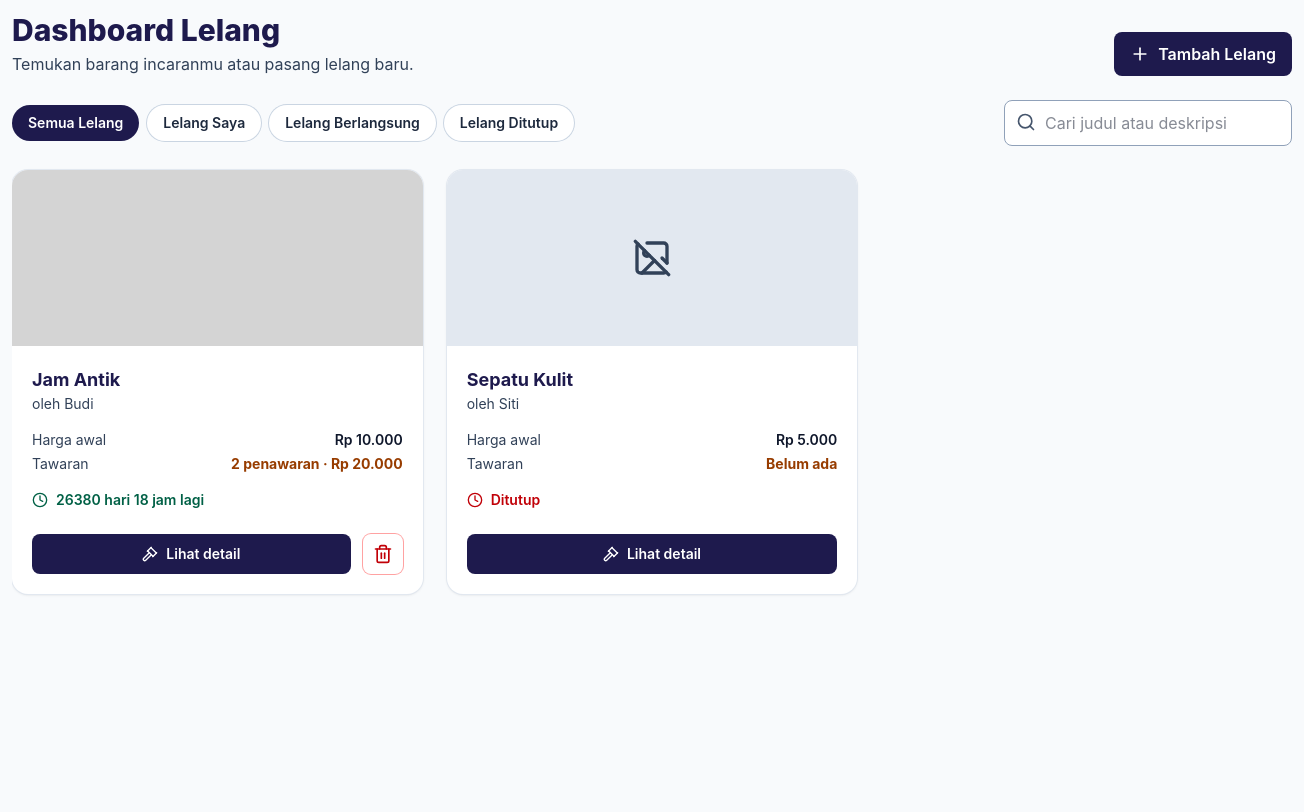
Test: HomePage › tab filter: berlangsung, ditutup, semua, dan lelang saya
This screenshot has width=1304, height=812.
Click the button "Lelang Berlangsung".
click(352, 123)  # box [269, 105, 436, 141]
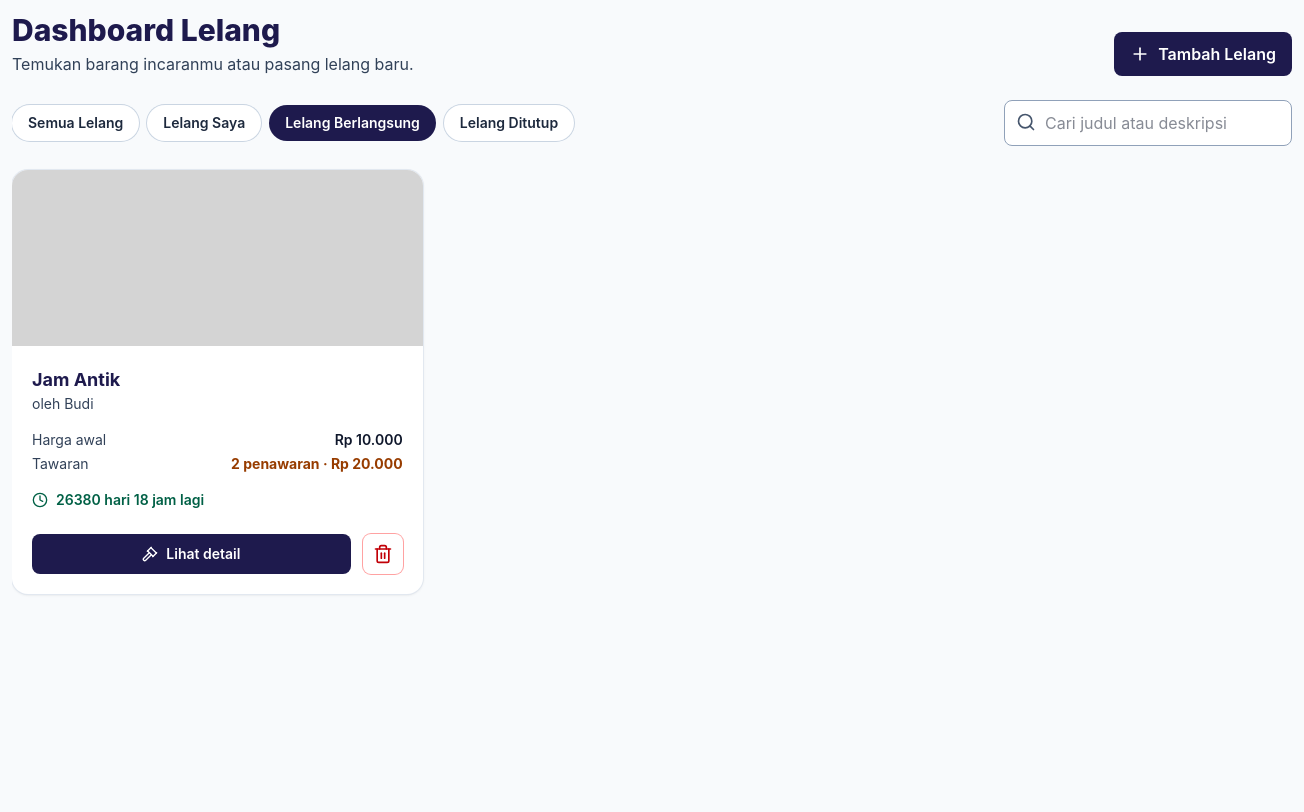
Click the button "Lelang Ditutup".
click(509, 123)  # box [444, 105, 574, 141]
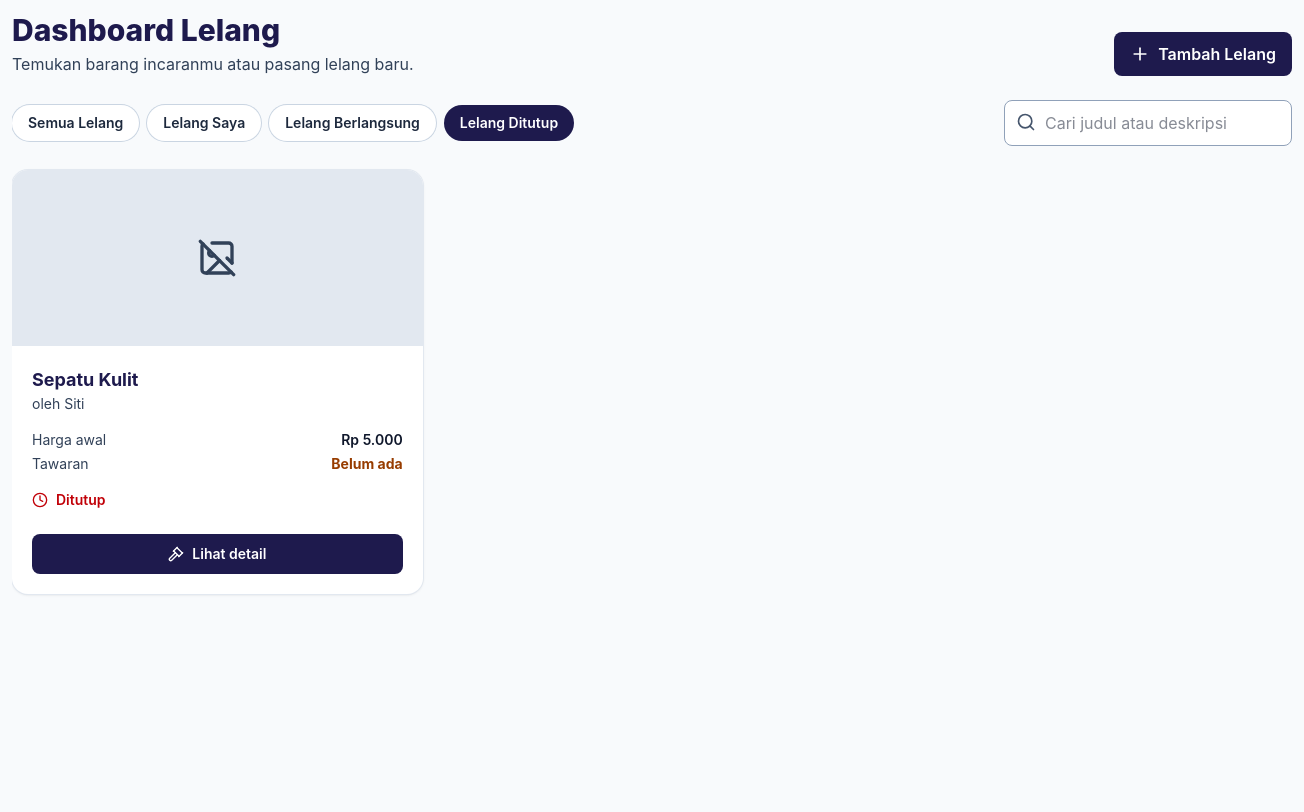
Click the button "Semua Lelang".
click(76, 123)  # box [12, 105, 139, 141]
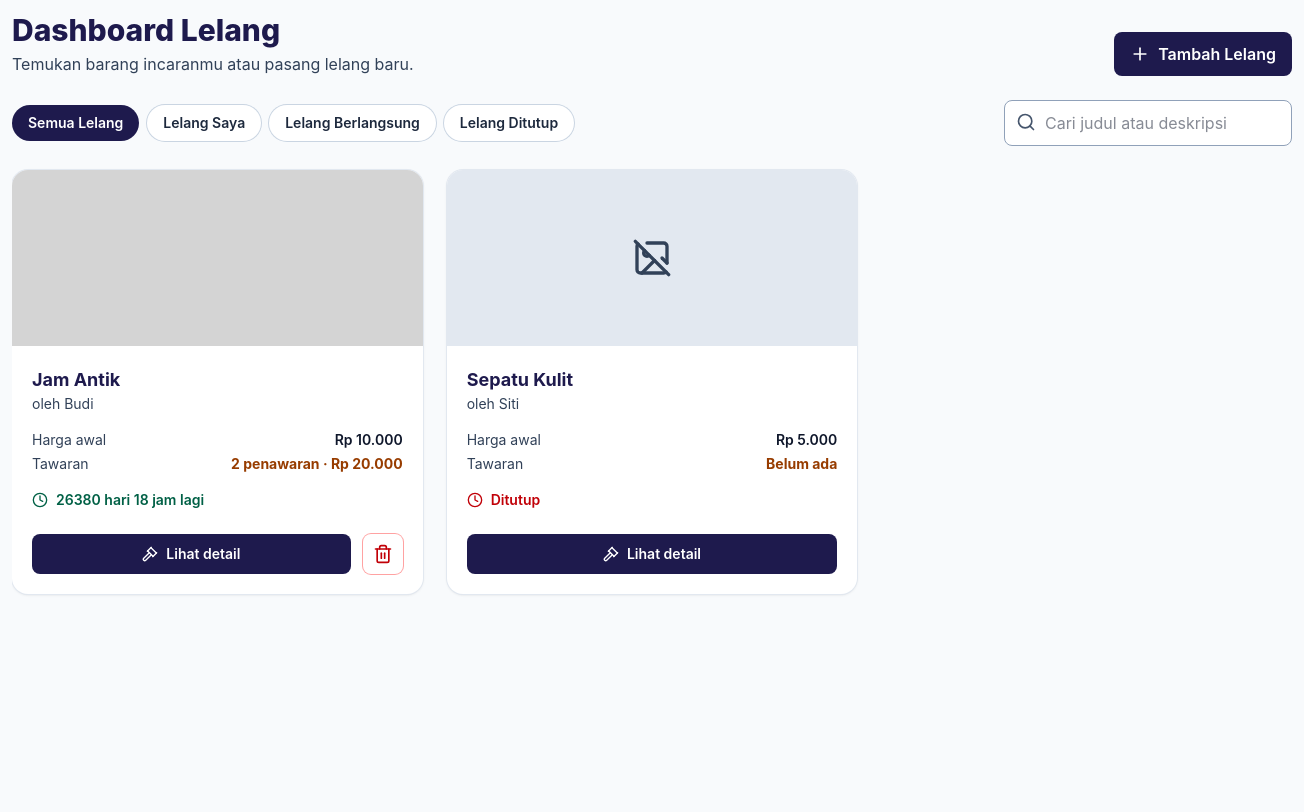
Click the button "Lelang Saya".
click(204, 123)  # box [147, 105, 261, 141]
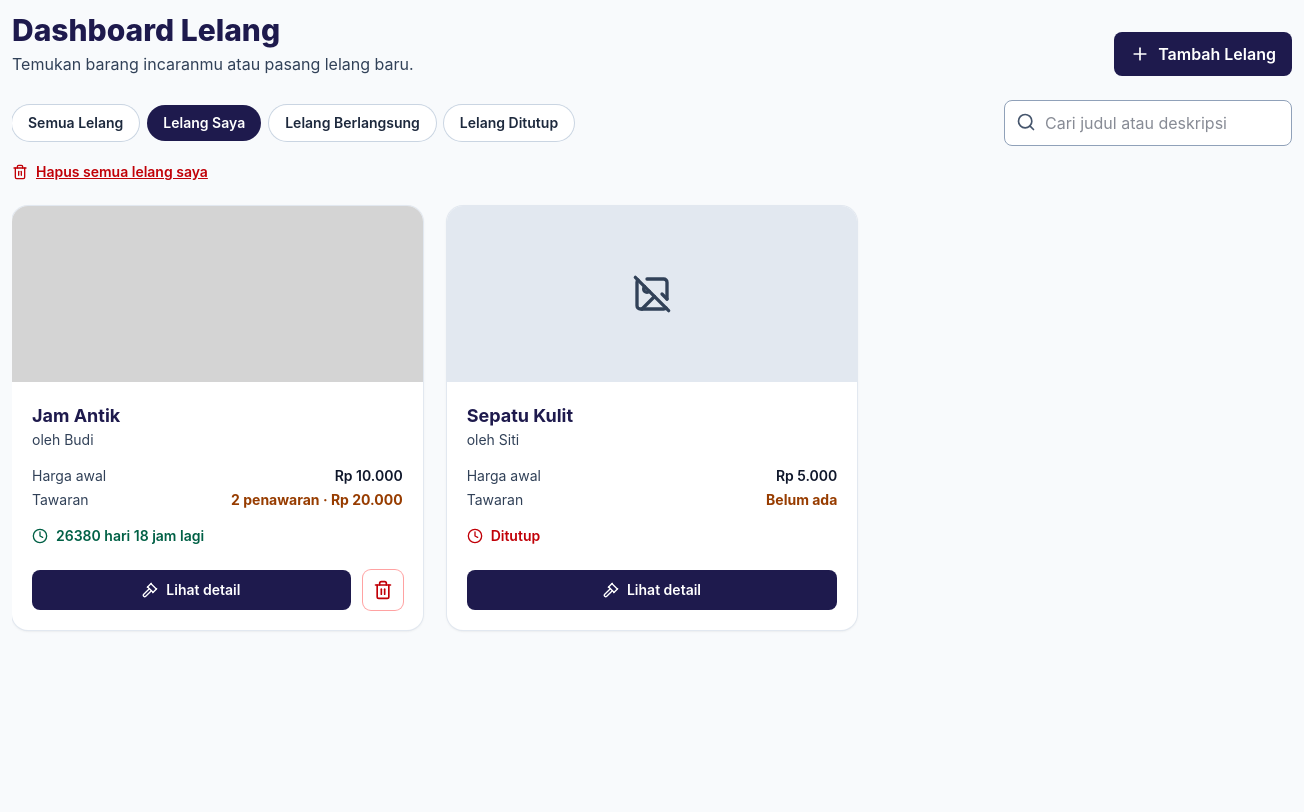
Now the text "Hapus semua lelang saya" is shown, box [12, 162, 208, 182]
